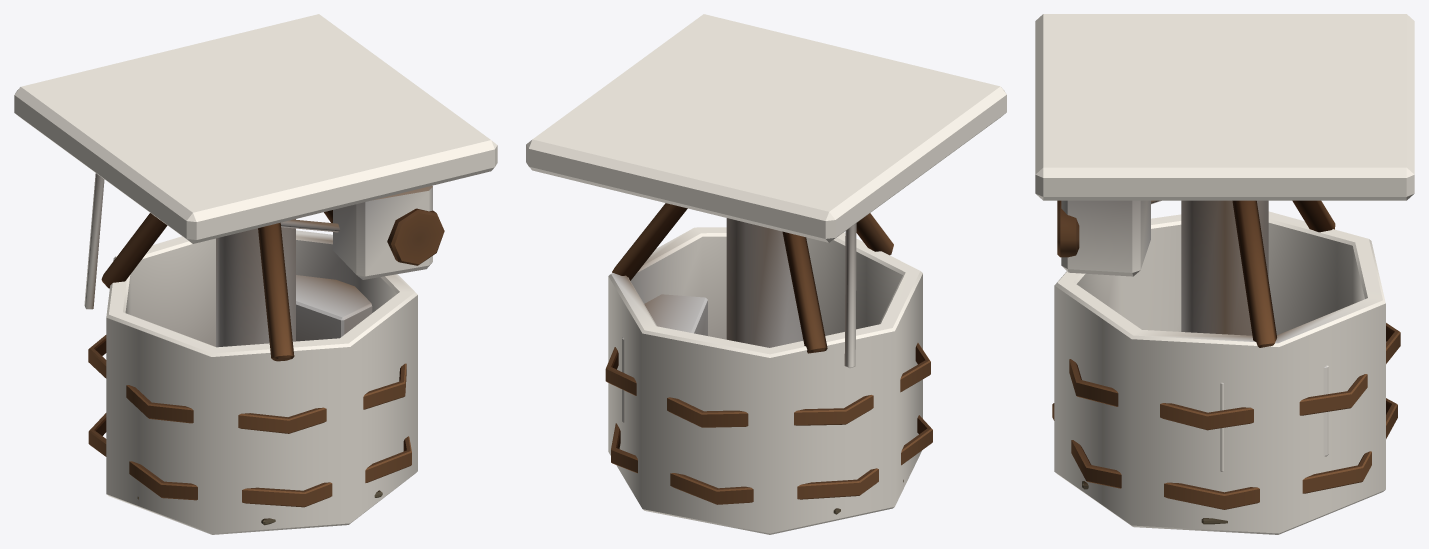
File: R4M_HoverEngine_LOD1.fbx
The picture shows the model from 3 angles, left to right: view 1: azimuth 30°, elevation 25°; view 2: azimuth 150°, elevation 25°; view 3: azimuth 270°, elevation 25°; orthographic projection. The views are drawn at different scales.
Parts seen in each view (by area): view 1: R4M_HoverEngine_LOD1; view 2: R4M_HoverEngine_LOD1; view 3: R4M_HoverEngine_LOD1.
Boxes of the visible parts, box(x1,y1,x2,y2) form: R4M_HoverEngine_LOD1: box(14, 14, 497, 534); R4M_HoverEngine_LOD1: box(526, 14, 1006, 534); R4M_HoverEngine_LOD1: box(1035, 14, 1414, 534).
Size of the model in its own units: 0.52 by 0.57 by 0.52.
